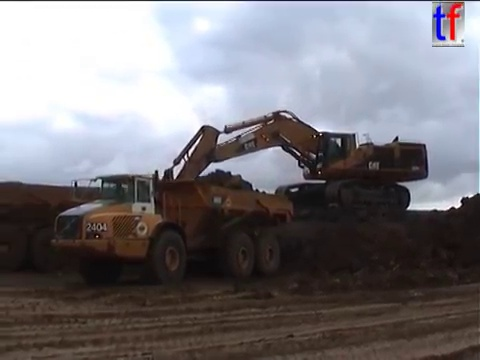excavator: (148, 108, 433, 234)
truck: (48, 165, 298, 288), (1, 178, 166, 276)
